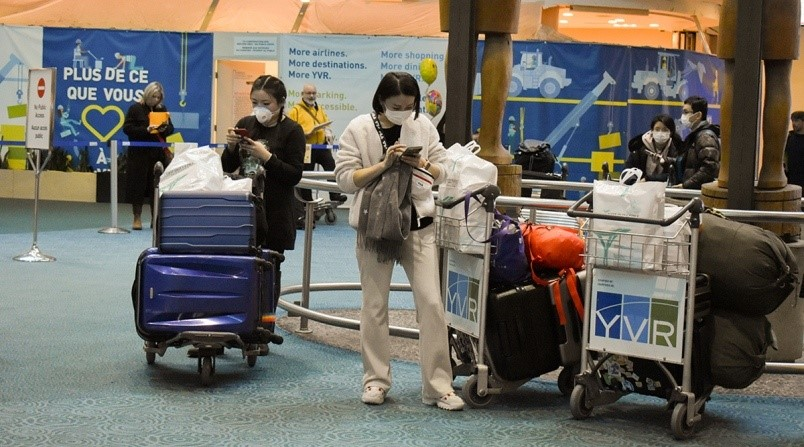face_no_mask: (139, 80, 164, 108), (300, 86, 319, 106)
face_with_mask: (374, 68, 422, 128), (243, 73, 287, 127), (680, 92, 706, 128), (648, 115, 674, 149)
